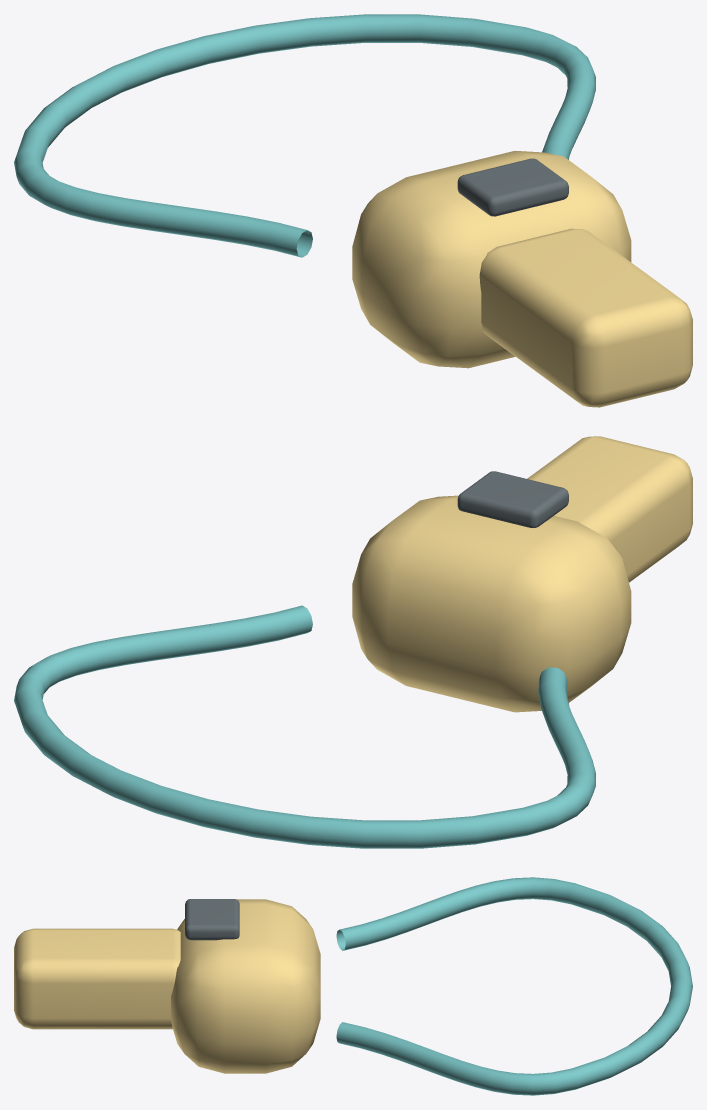
Rendered from Whistle.fbx.
The picture shows the model from 3 angles, top to bottom: view 1: azimuth 30°, elevation 25°; view 2: azimuth 150°, elevation 25°; view 3: azimuth 270°, elevation 25°; orthographic projection. The views are drawn at different scales.
Parts seen in each view (by area): view 1: Body, Cord, Mouthpiece, AirSlot; view 2: Body, Cord, Mouthpiece, AirSlot; view 3: Body, Cord, Mouthpiece, AirSlot.
Part boxes in pixels (x1=…): Body: x1=352, y1=151, x2=631, y2=368; Cord: x1=14, y1=14, x2=595, y2=257; Mouthpiece: x1=479, y1=228, x2=692, y2=407; AirSlot: x1=457, y1=158, x2=568, y2=216; Body: x1=352, y1=495, x2=631, y2=712; Cord: x1=14, y1=605, x2=595, y2=848; Mouthpiece: x1=527, y1=436, x2=692, y2=582; AirSlot: x1=457, y1=471, x2=568, y2=527; Body: x1=171, y1=899, x2=320, y2=1073; Cord: x1=336, y1=877, x2=692, y2=1095; Mouthpiece: x1=14, y1=928, x2=180, y2=1029; AirSlot: x1=185, y1=899, x2=239, y2=940.
Size of the model in its own units: 17.79 by 5.5 by 24.81.
